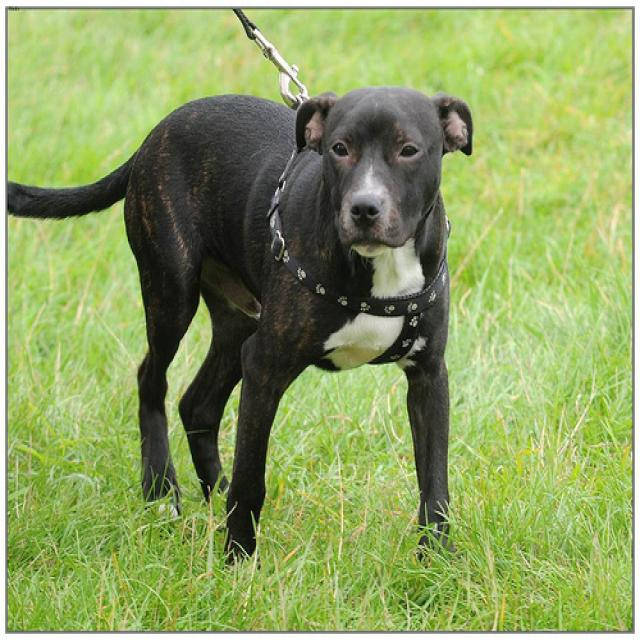dog-staffordshire_bull_terrier: (1, 77, 479, 574)
